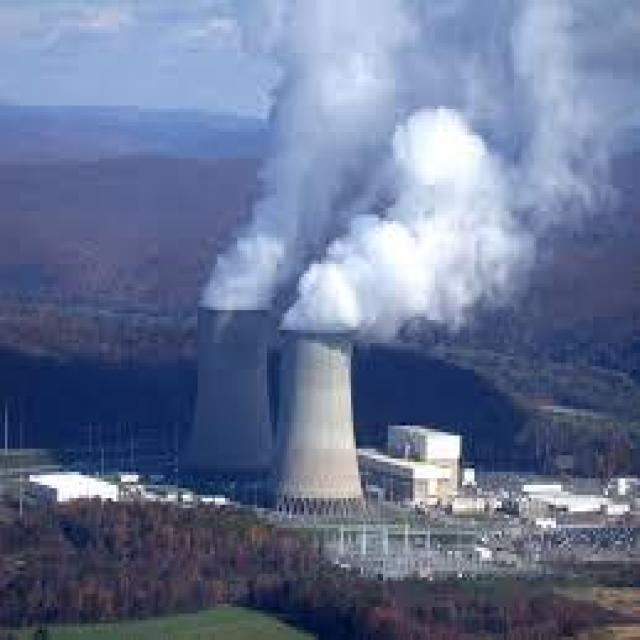Smoke: (206, 2, 632, 316)
